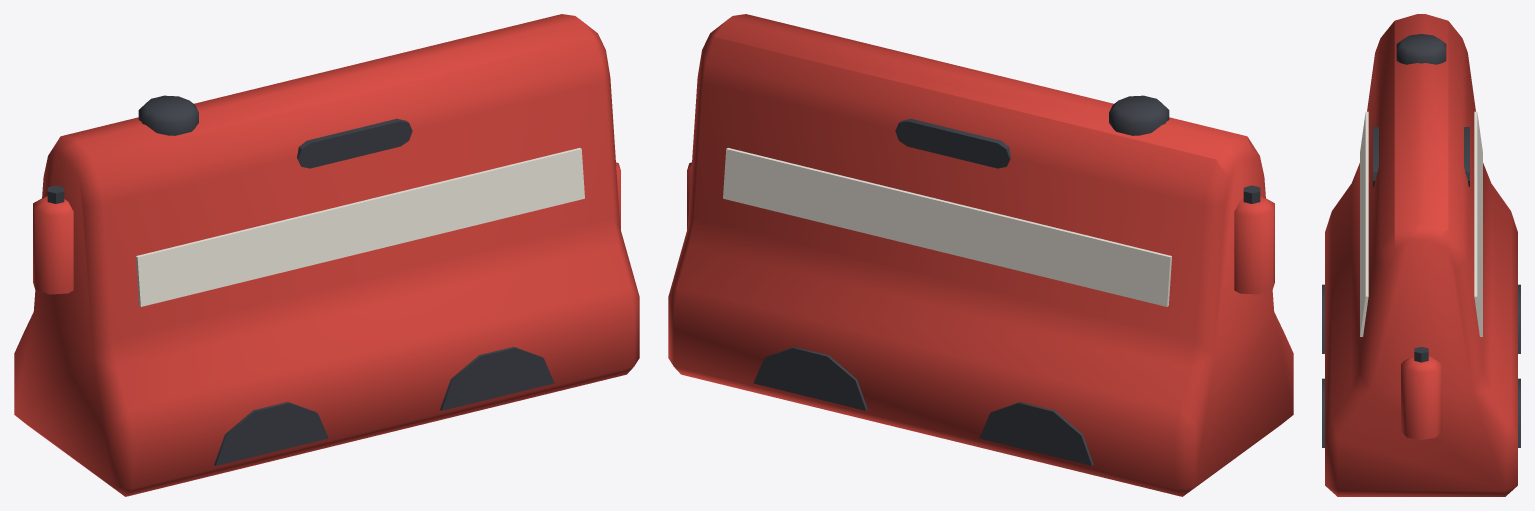
Rendered from prop_barrier.glb.
3 views of the same model, side by side, from view 1: azimuth 30°, elevation 25°; view 2: azimuth 150°, elevation 25°; view 3: azimuth 270°, elevation 25° (orthographic). The views are drawn at different scales.
Parts seen in each view (by area): view 1: body; view 2: body; view 3: body.
Boxes of the visible parts, x1,y1,x2,y2 form: body: (14,14,639,496); body: (668,14,1293,496); body: (1322,14,1520,496).
Bounding box in the file's own units: 1.55 × 0.847 × 0.536.
